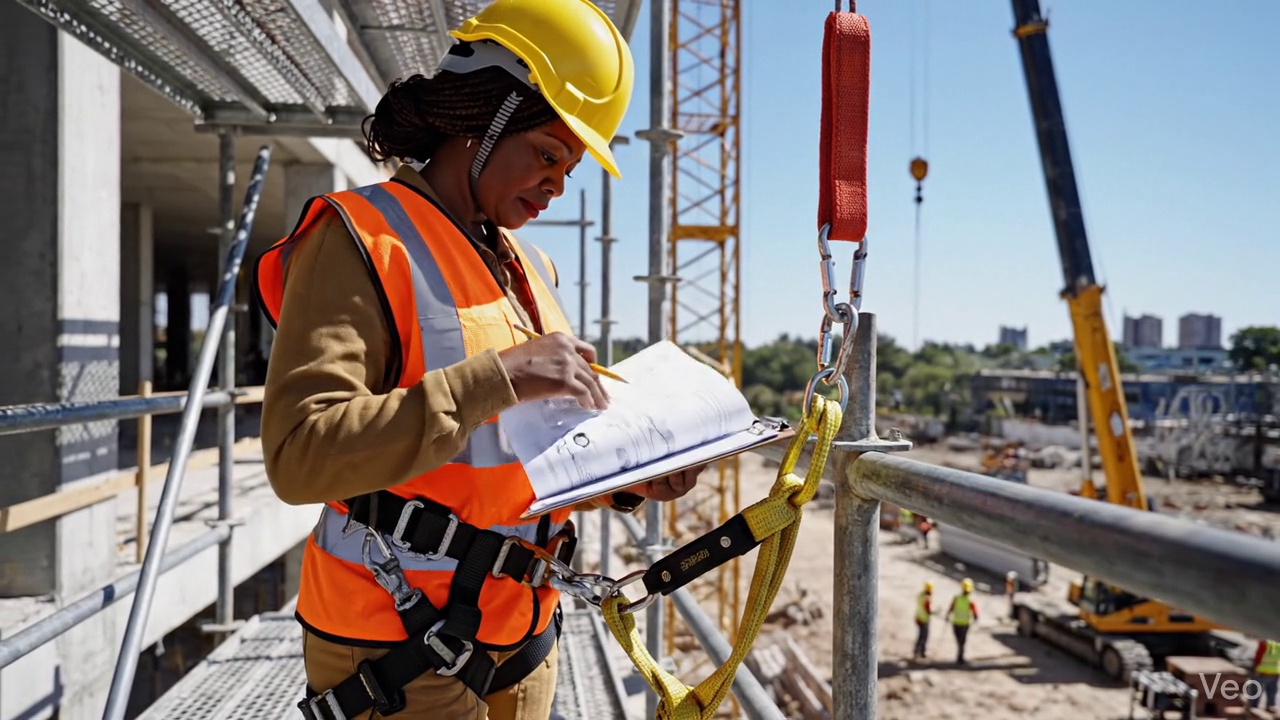p: (257, 0, 632, 719), (597, 468, 700, 509)
